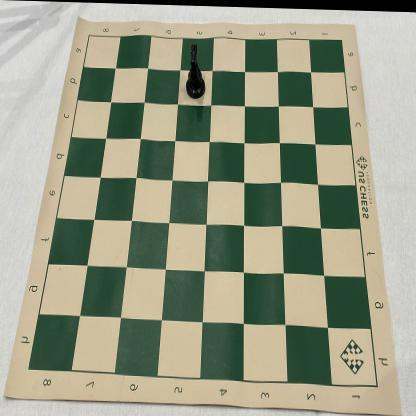black-knight: (185, 42, 206, 98)
